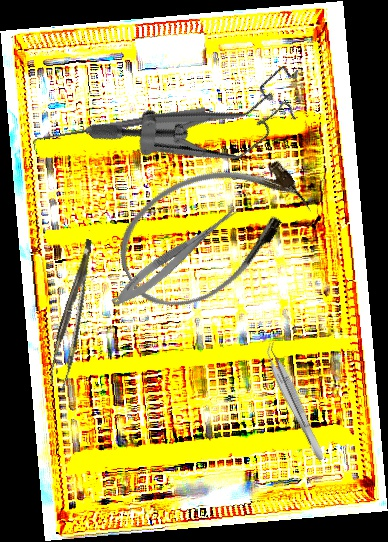Cannula: (99, 132, 325, 329)
Hook Surgical: (31, 103, 208, 153)
Micro Scissor: (107, 196, 246, 314)
Speculum: (84, 3, 324, 227)
Tissue Forceps: (40, 238, 111, 389), (259, 341, 332, 462)
